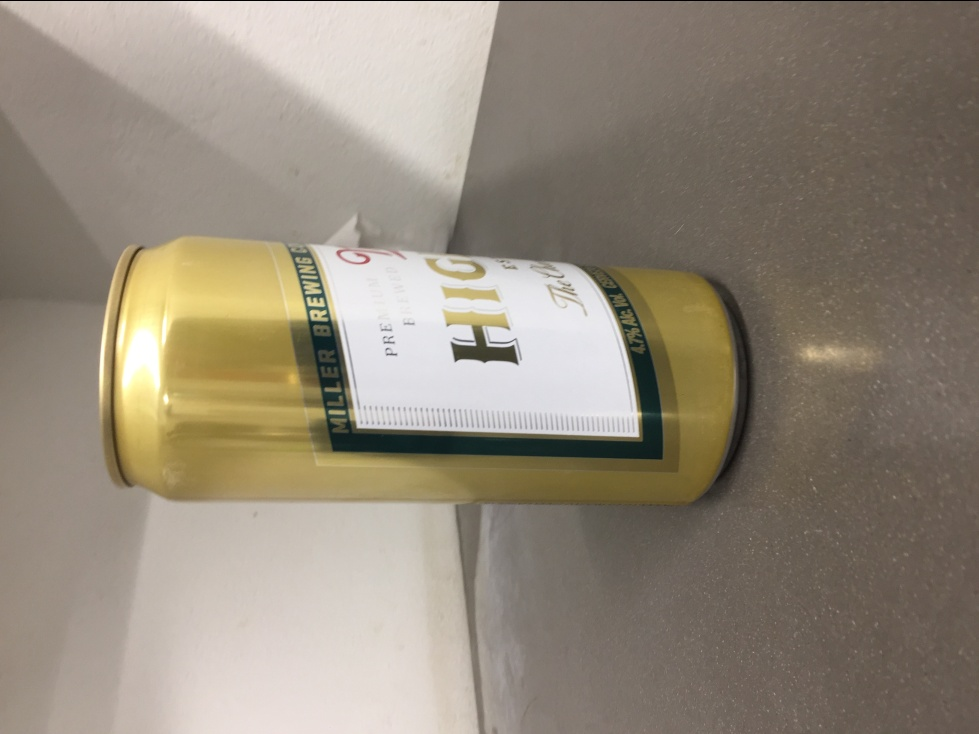miller: (94, 228, 748, 507)
